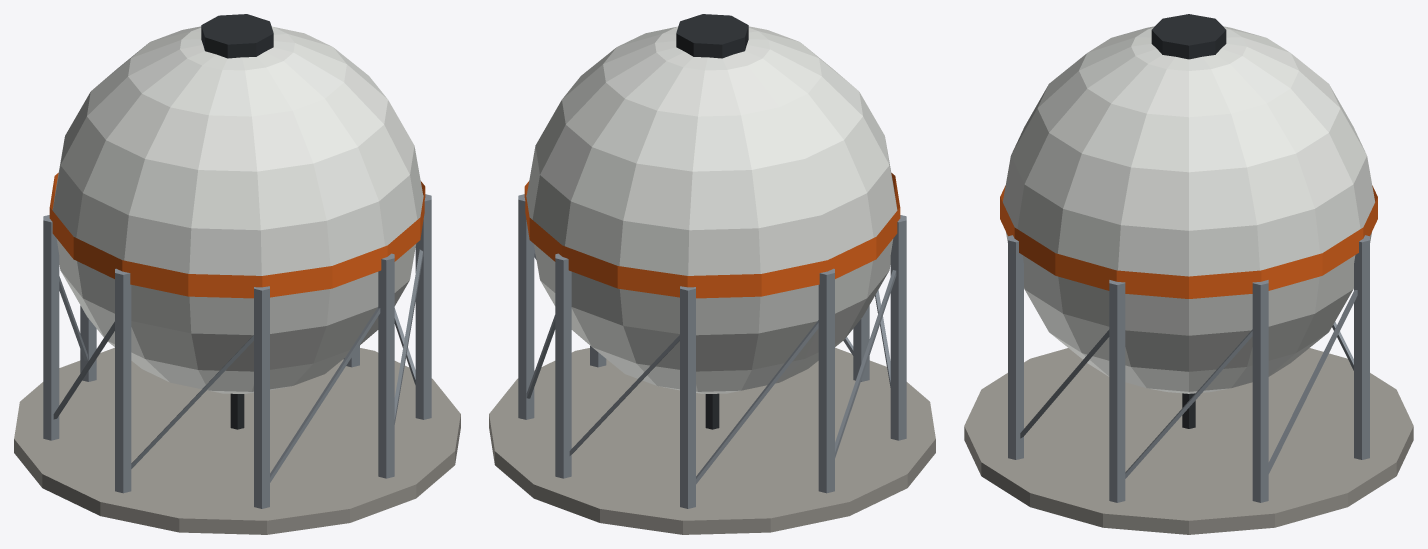
Rendered from Scenery_TankSphere.fbx.
3 renders of one model, left to right at view 1: azimuth 30°, elevation 25°; view 2: azimuth 150°, elevation 25°; view 3: azimuth 270°, elevation 25°, orthographic.
Visible parts, largest first — view 1: Scenery_TankSphere; view 2: Scenery_TankSphere; view 3: Scenery_TankSphere.
Boxes of the visible parts, bbox=[...] form: Scenery_TankSphere: bbox=[14, 14, 460, 534]; Scenery_TankSphere: bbox=[489, 14, 935, 534]; Scenery_TankSphere: bbox=[964, 14, 1413, 534].
Size of the model in its own units: 14.4 by 14.5 by 14.4.
